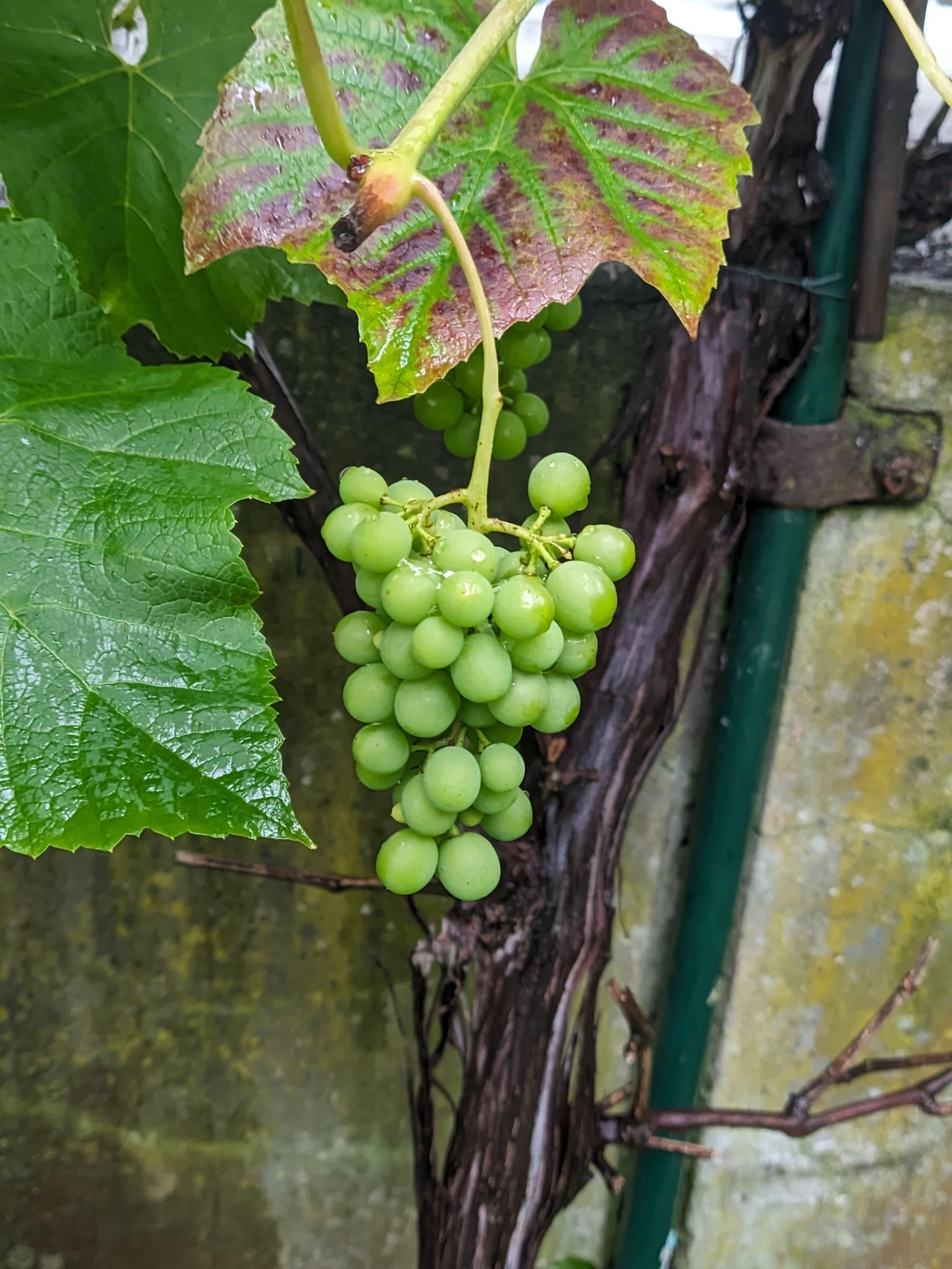Grape Unripe: (315, 453, 638, 905), (416, 293, 584, 462)
